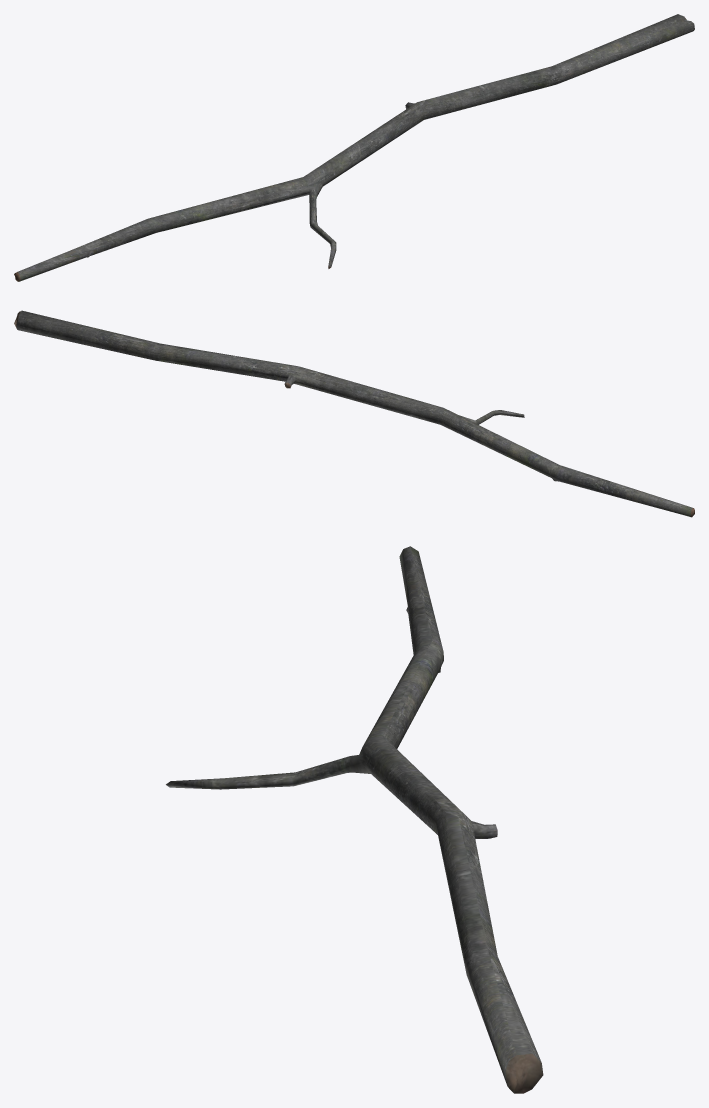
File: Rama_sola.glb
3 views of the same model, one above another, from view 1: azimuth 30°, elevation 25°; view 2: azimuth 150°, elevation 25°; view 3: azimuth 270°, elevation 25° (orthographic). The views are drawn at different scales.
Visible parts, largest first — view 1: Fallen_Tree_Branches_02_v1.001; view 2: Fallen_Tree_Branches_02_v1.001; view 3: Fallen_Tree_Branches_02_v1.001.
Boxes of the visible parts, x1,y1,x2,y2 form: Fallen_Tree_Branches_02_v1.001: (14, 14, 694, 281); Fallen_Tree_Branches_02_v1.001: (14, 310, 694, 517); Fallen_Tree_Branches_02_v1.001: (166, 546, 543, 1093).
Size of the model in its own units: 5.59 by 0.5658 by 1.4.
Materials: 1 (1 with a texture image).
